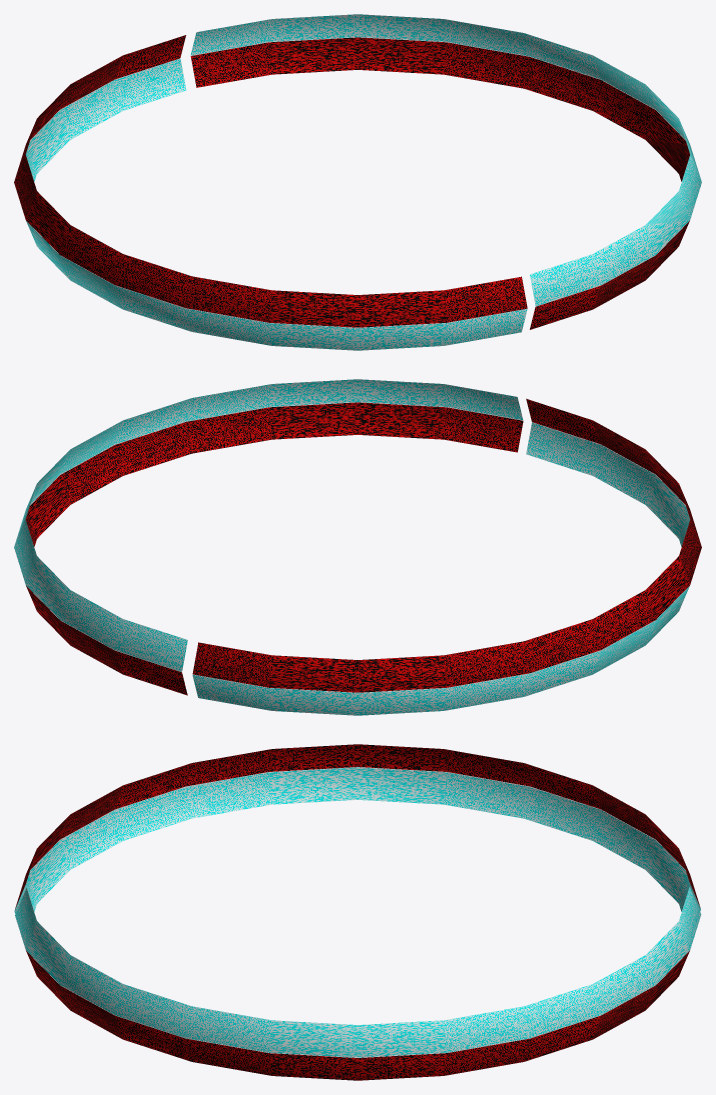
File: SM_Ring_02_KMH.fbx
3 renders of one model, top to bottom at view 1: azimuth 30°, elevation 25°; view 2: azimuth 150°, elevation 25°; view 3: azimuth 270°, elevation 25°, orthographic.
Visible parts, largest first — view 1: SM_Ring_02_KMH; view 2: SM_Ring_02_KMH; view 3: SM_Ring_02_KMH.
Boxes of the visible parts, bbox=[...] form: SM_Ring_02_KMH: bbox=[14, 14, 701, 350]; SM_Ring_02_KMH: bbox=[14, 379, 701, 715]; SM_Ring_02_KMH: bbox=[14, 744, 701, 1080].
Bounding box in the file's own units: 51.66 × 4.61 × 51.66.
